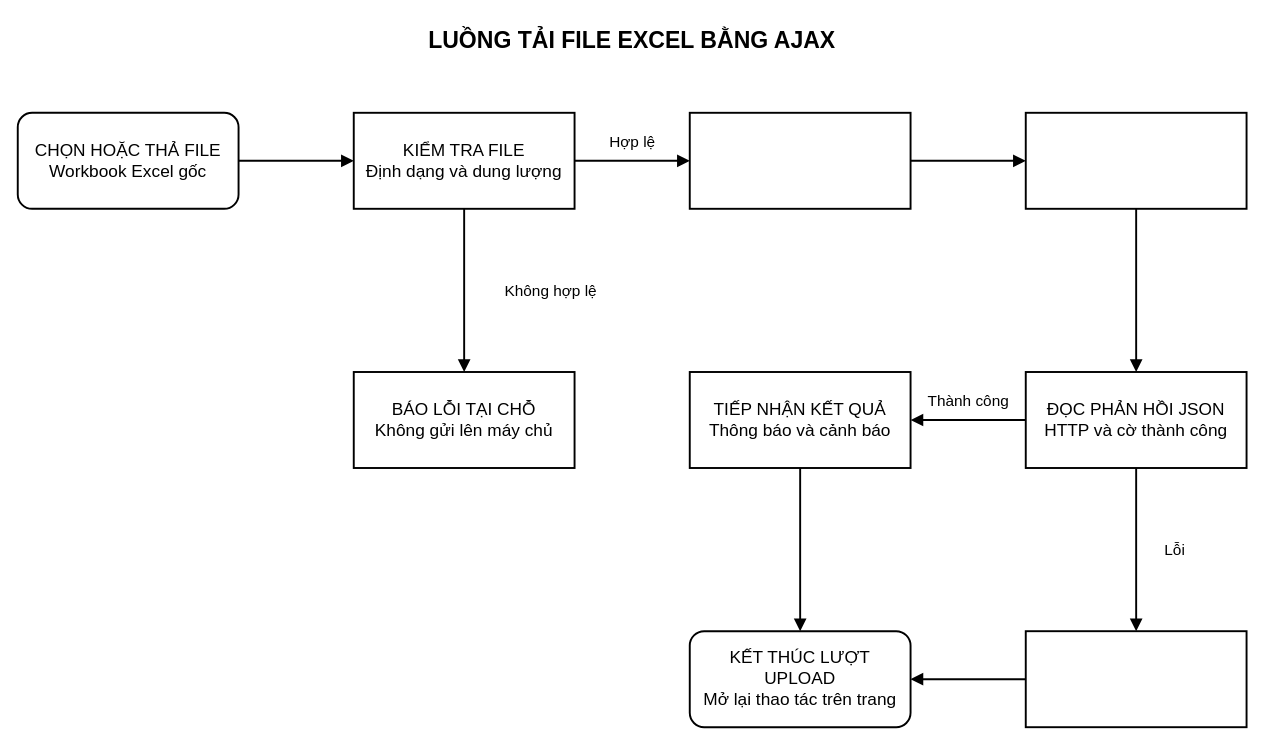
Image size: 1263x744. Some labels were removed from this diagram. The centre of each missing label's shape, as x and y in pixels:
"BÁO LỖI XỬ LÝ Cho phép chọn lại file" belongs at (x=1135, y=679).
"GỬI AJAX TỚI C# File và tên file gốc" belongs at (x=1135, y=160).
"HIỆN TRẠNG THÁI CHỜ Khoá thao tác gửi trùng" belongs at (x=799, y=160).
